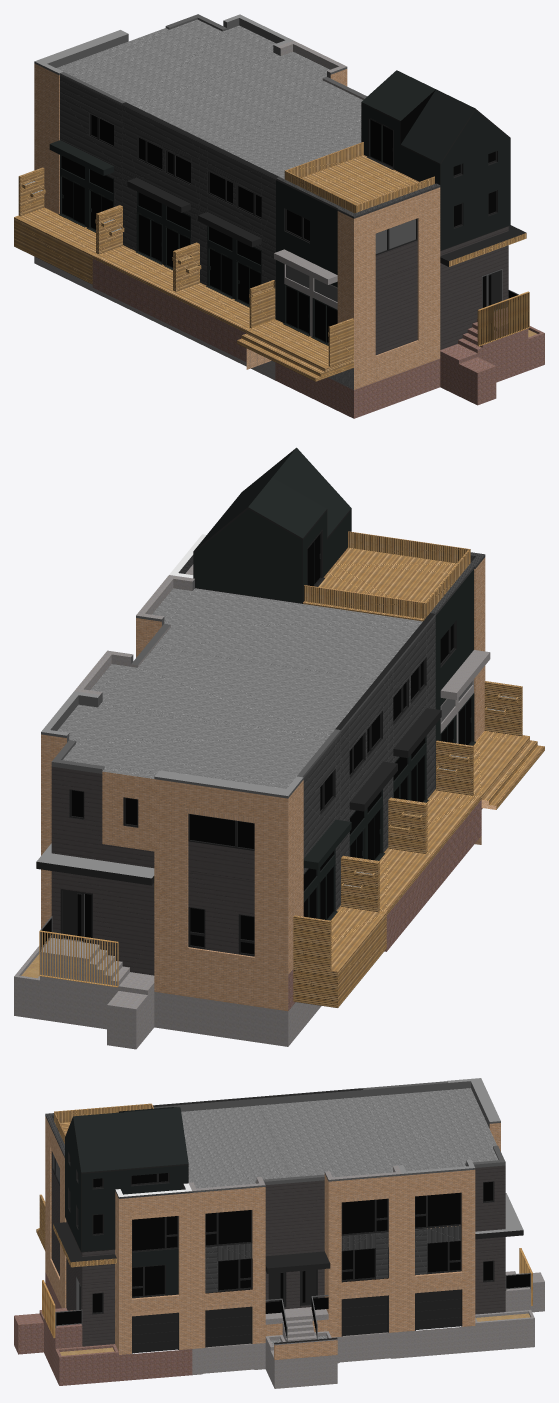
3 views of the same model, one above another, from view 1: azimuth 30°, elevation 25°; view 2: azimuth 150°, elevation 25°; view 3: azimuth 270°, elevation 25° (orthographic). The views are drawn at different scales.
Parts seen in each view (by area): view 1: Mesh08, Object001, Object002, Object003, Group868; view 2: Object001, Mesh08, Object003, Object002; view 3: Mesh08, Object001, Object002, Object003, Group361, Group868, Mesh11.
Boxes of the visible parts, bbox=[...] form: Mesh08: bbox=[237, 70, 544, 418]; Object001: bbox=[14, 14, 293, 305]; Object002: bbox=[92, 40, 353, 342]; Object003: bbox=[169, 90, 366, 380]; Group868: bbox=[440, 225, 526, 266]; Object001: bbox=[14, 691, 386, 1049]; Mesh08: bbox=[169, 447, 544, 844]; Object003: bbox=[136, 575, 481, 893]; Object002: bbox=[74, 644, 433, 951]; Mesh08: bbox=[14, 1103, 192, 1385]; Object001: bbox=[362, 1078, 544, 1357]; Object002: bbox=[258, 1088, 401, 1386]; Object003: bbox=[153, 1096, 306, 1388]; Group361: bbox=[55, 1273, 530, 1341]; Group868: bbox=[53, 1222, 116, 1267]; Mesh11: bbox=[427, 1225, 461, 1243].
Size of the model in its own units: 690 by 555 by 1104.
Materials: 22 (16 with a texture image).
